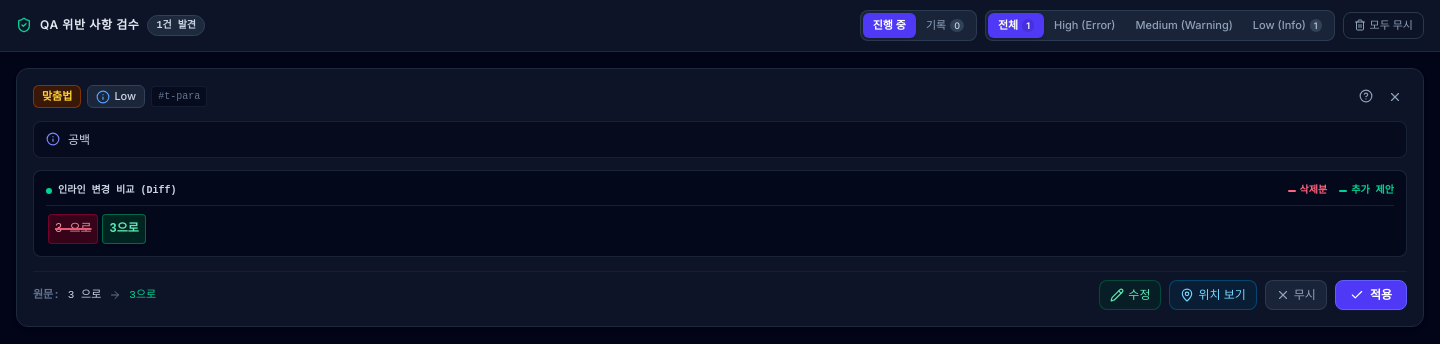
Test: QACardList Component › supports "모두 무시" button to clear all cards at once
Step 1. Click the button with test id "dismiss-all-btn" → {"x": 1383, "y": 25}, box [1343,12,1424,38]
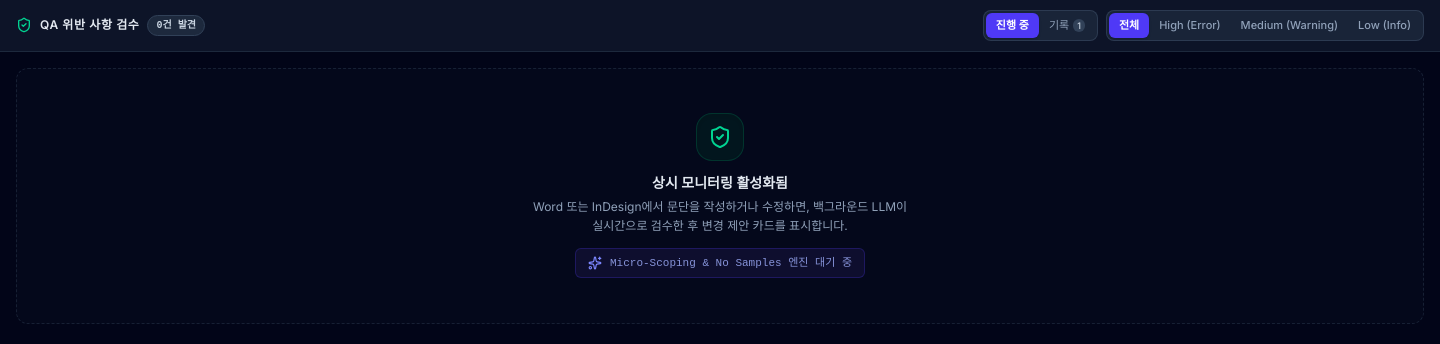
Result: the text with test id "qa-issue-counter" reads "0건 발견" at [148,15,205,36]
Result: the element with test id "qa-card-item-c-1" is gone
